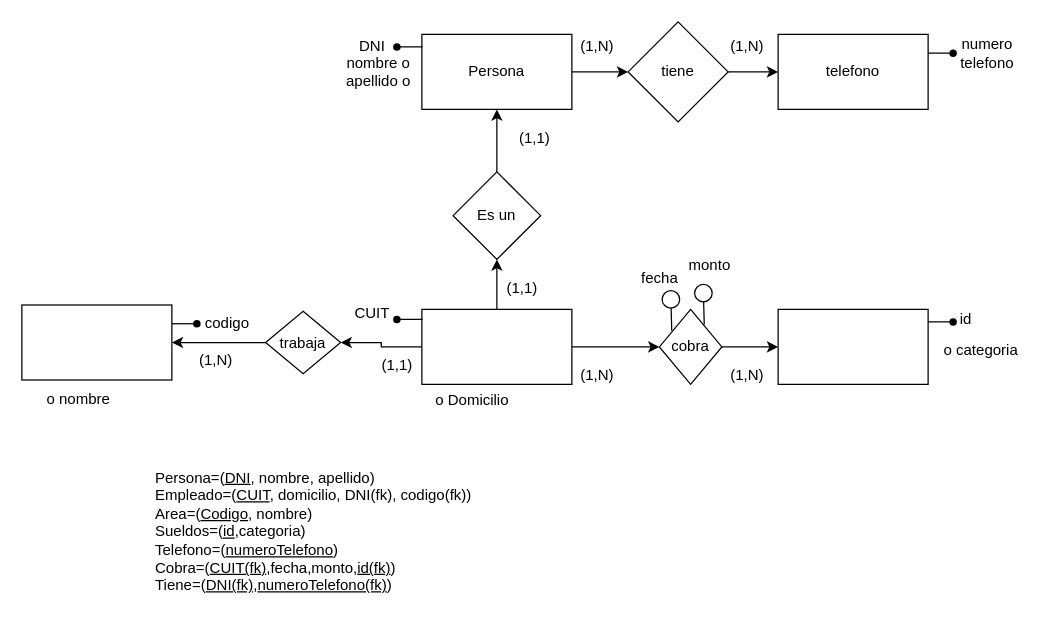
Image size: 1053x644. Some labels were removed from this diagram. Each missing label, with the centre of its shape:
Area: pixel 96 342
Empleado: pixel 496 346
SUELDOS: pixel 852 346
